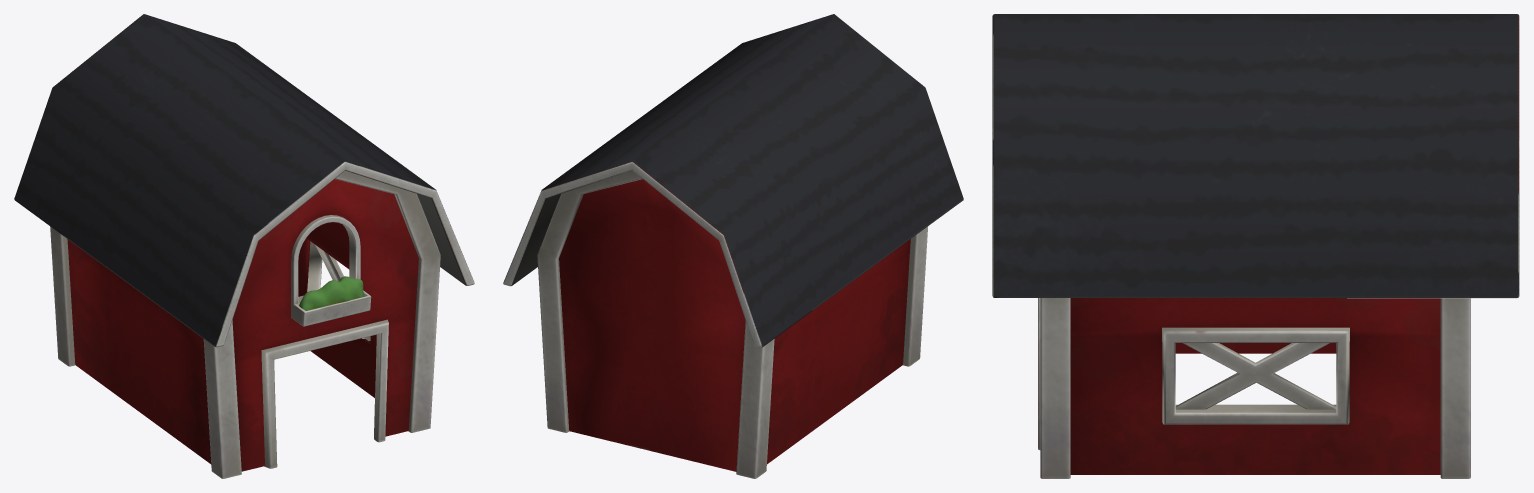
Rendered from Barn 1.fbx.
The picture shows the model from 3 angles, left to right: view 1: azimuth 30°, elevation 25°; view 2: azimuth 150°, elevation 25°; view 3: azimuth 270°, elevation 25°; orthographic projection. The views are drawn at different scales.
Visible parts, largest first — view 1: Final_lambert1_0; view 2: Final_lambert1_0; view 3: Final_lambert1_0.
Boxes of the visible parts, x1,y1,x2,y2 form: Final_lambert1_0: (14, 14, 474, 478); Final_lambert1_0: (503, 14, 963, 478); Final_lambert1_0: (992, 14, 1519, 478).
Size of the model in its own units: 588 by 663 by 793.
